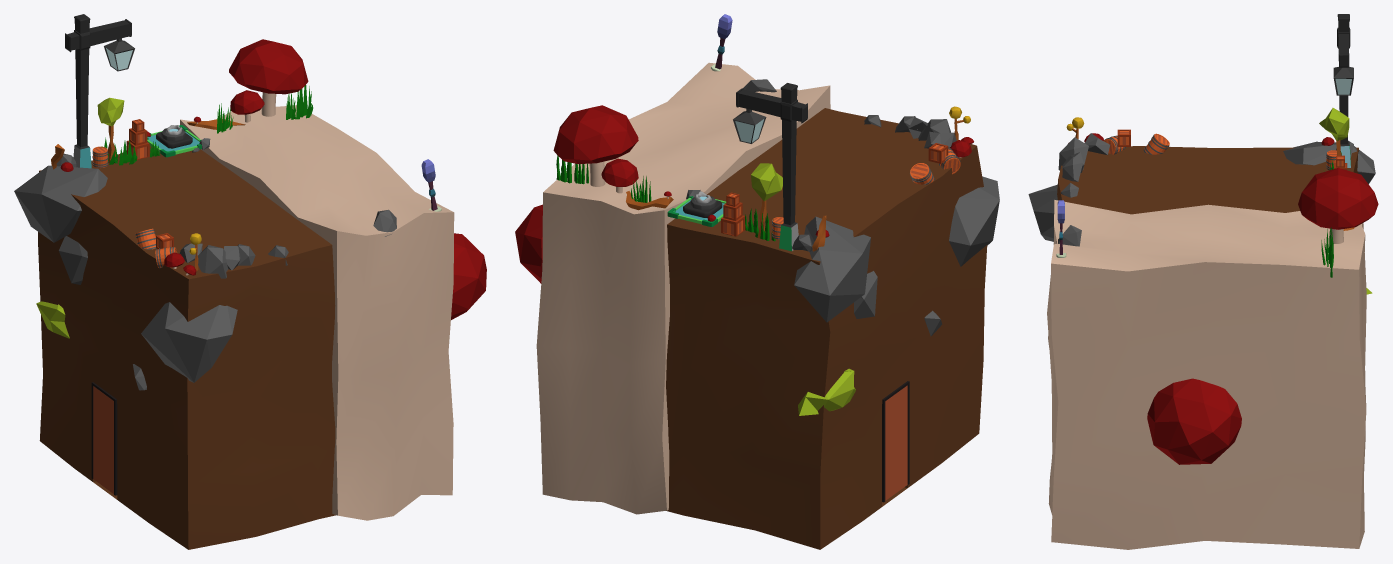
The picture shows the model from 3 angles, left to right: view 1: azimuth 30°, elevation 25°; view 2: azimuth 150°, elevation 25°; view 3: azimuth 270°, elevation 25°; orthographic projection. The views are drawn at different scales.
Parts seen in each view (by area): view 1: Box399, Box400, GeoSphere236, GeoSphere257, GeoSphere238, Box412, PivotDoor008, GeoSphere260, GeoSphere235, GeoSphere234, GeoSphere259, Box413 (+2 smaller); view 2: Box399, Box400, GeoSphere257, GeoSphere238, Box412, GeoSphere236, PivotDoor008, GeoSphere260, GeoSphere259, GeoSphere237, GeoSphere239, Box413 (+1 smaller); view 3: Box400, Box399, GeoSphere260, GeoSphere238, GeoSphere257, Box412, GeoSphere236, GeoSphere237, Box413, GeoSphere234.
Boxes of the visible parts, x1,y1,x2,y2 form: Box399: (38, 145, 335, 549); Box400: (180, 105, 454, 520); GeoSphere236: (141, 302, 237, 382); GeoSphere257: (14, 165, 107, 242); GeoSphere238: (229, 39, 308, 94); Box412: (65, 14, 131, 168); PivotDoor008: (91, 382, 117, 495); GeoSphere260: (451, 233, 486, 319); GeoSphere235: (58, 236, 87, 284); GeoSphere234: (198, 245, 228, 278); GeoSphere259: (36, 301, 69, 338); Box413: (104, 38, 134, 71); Box399: (666, 108, 987, 549); Box400: (536, 62, 830, 514); GeoSphere257: (794, 216, 870, 322); GeoSphere238: (553, 105, 638, 163); Box412: (736, 83, 807, 251); GeoSphere236: (949, 176, 999, 266); PivotDoor008: (882, 381, 909, 502); GeoSphere260: (515, 204, 542, 283); GeoSphere259: (798, 368, 855, 415); GeoSphere237: (751, 163, 782, 201); GeoSphere239: (601, 158, 638, 186); Box413: (733, 108, 766, 143); Box400: (1047, 200, 1366, 549); Box399: (1057, 146, 1358, 214); GeoSphere260: (1147, 378, 1241, 464); GeoSphere238: (1298, 168, 1378, 229); GeoSphere257: (1283, 141, 1375, 184); Box412: (1337, 14, 1350, 167); GeoSphere236: (1028, 184, 1057, 241); GeoSphere237: (1319, 108, 1349, 141); Box413: (1333, 67, 1353, 95); GeoSphere234: (1058, 137, 1088, 170).
Size of the model in its own units: 447 by 357 by 481.
Materials: 27 (4 with a texture image).
